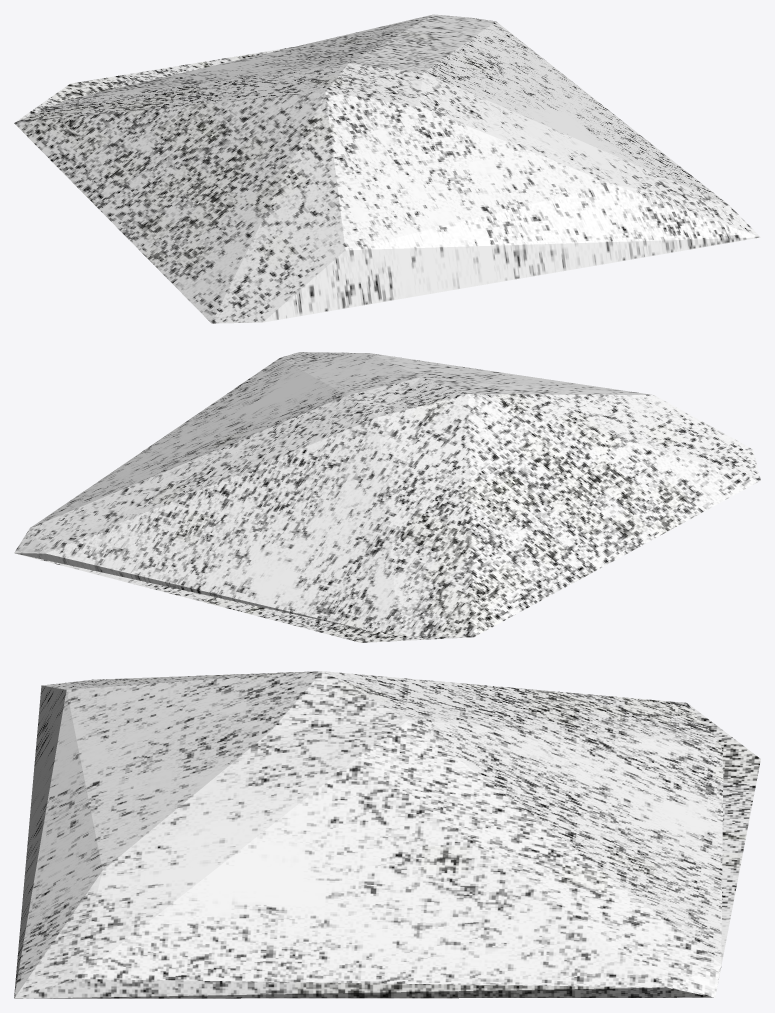
The model's file is piedrassuetas2.fbx.
The picture shows the model from 3 angles, top to bottom: view 1: azimuth 30°, elevation 25°; view 2: azimuth 150°, elevation 25°; view 3: azimuth 270°, elevation 25°; orthographic projection. The views are drawn at different scales.
Parts seen in each view (by area): view 1: Cube; view 2: Cube; view 3: Cube.
Boxes of the visible parts, x1,y1,x2,y2 form: Cube: [14, 14, 760, 323]; Cube: [14, 352, 760, 642]; Cube: [14, 671, 760, 998].
Bounding box in the file's own units: 373 × 85.05 × 385.
Materials: 1 (1 with a texture image).
